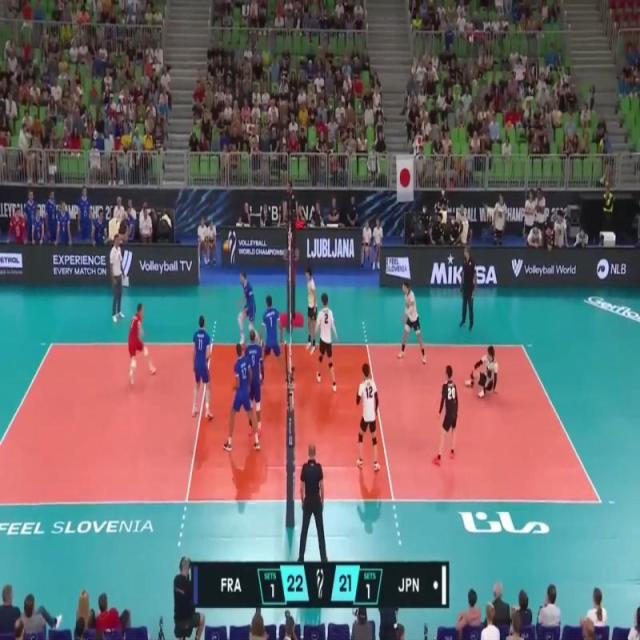volleyball: (222, 239, 230, 253)
